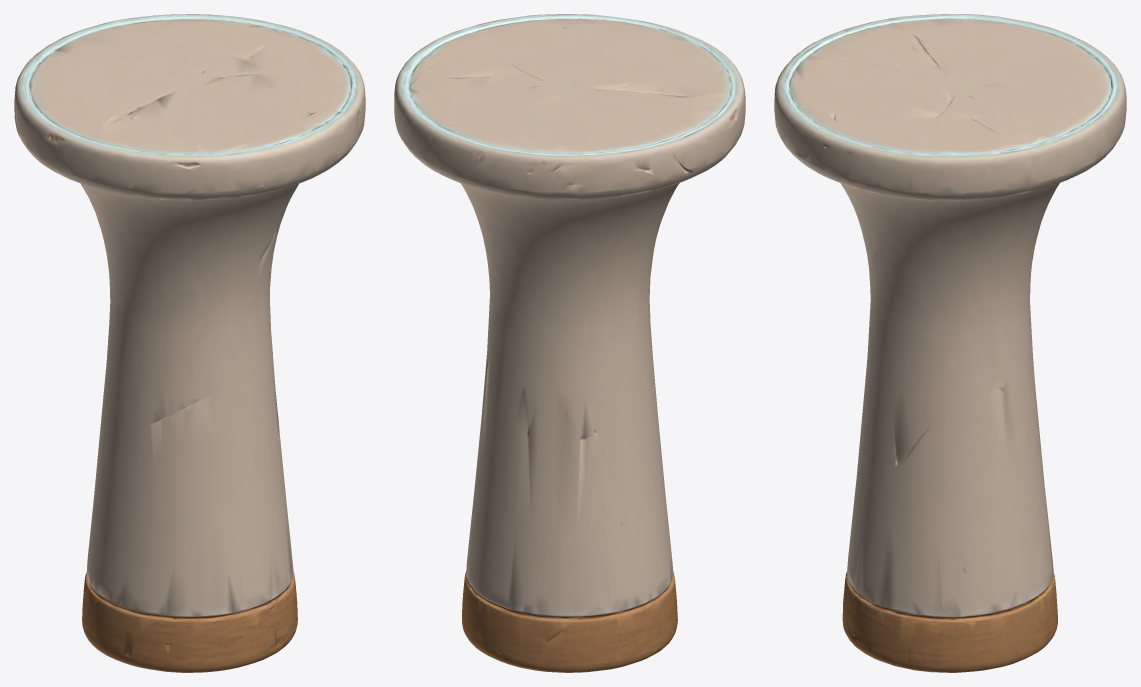
Rendered from plinth.medium.glb.
The picture shows the model from 3 angles, left to right: view 1: azimuth 30°, elevation 25°; view 2: azimuth 150°, elevation 25°; view 3: azimuth 270°, elevation 25°; orthographic projection.
Parts seen in each view (by area): view 1: tripo_node_3f8d8bd0-45ca-4649-9d94-56b4f829f990; view 2: tripo_node_3f8d8bd0-45ca-4649-9d94-56b4f829f990; view 3: tripo_node_3f8d8bd0-45ca-4649-9d94-56b4f829f990.
Boxes of the visible parts, x1,y1,x2,y2 form: tripo_node_3f8d8bd0-45ca-4649-9d94-56b4f829f990: [14, 14, 365, 672]; tripo_node_3f8d8bd0-45ca-4649-9d94-56b4f829f990: [394, 14, 745, 672]; tripo_node_3f8d8bd0-45ca-4649-9d94-56b4f829f990: [774, 14, 1126, 672].
Size of the model in its own units: 0.5797 by 0.9899 by 0.5799.
Materials: 1 (1 with a texture image).
